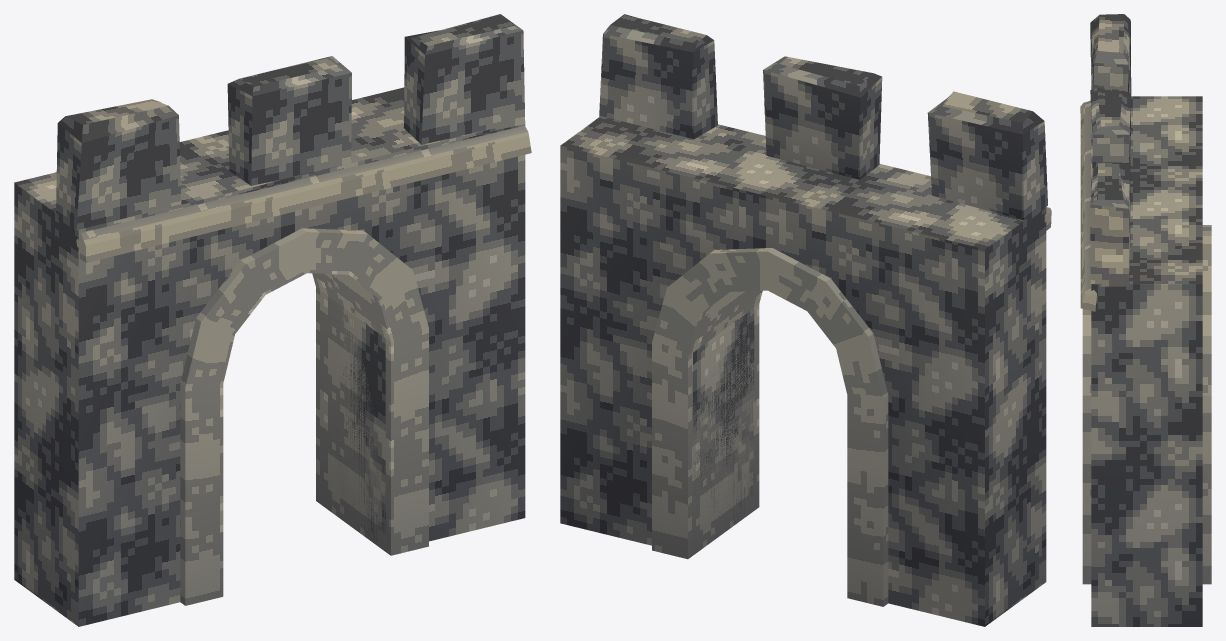
Rendered from vlg.wall__postern.glb.
3 views of the same model, side by side, from view 1: azimuth 30°, elevation 25°; view 2: azimuth 150°, elevation 25°; view 3: azimuth 270°, elevation 25° (orthographic). The views are drawn at different scales.
Visible parts, largest first — view 1: kit_wall, kit_top, kit_fittings; view 2: kit_wall, kit_fittings, kit_top; view 3: kit_wall, kit_top, kit_fittings.
Part boxes in pixels (box(x1,y1,x2,y2)): kit_wall: box(14, 87, 525, 626); kit_top: box(56, 14, 531, 262); kit_fittings: box(180, 228, 428, 605); kit_wall: box(560, 116, 1046, 626); kit_fittings: box(652, 248, 888, 606); kit_top: box(599, 14, 1051, 230); kit_wall: box(1091, 96, 1202, 626); kit_top: box(1080, 14, 1131, 311); kit_fittings: box(1082, 225, 1211, 584).
Bounding box in the file's own units: 4.03 × 4.25 × 1.18.
Materials: 2 (2 with a texture image).
